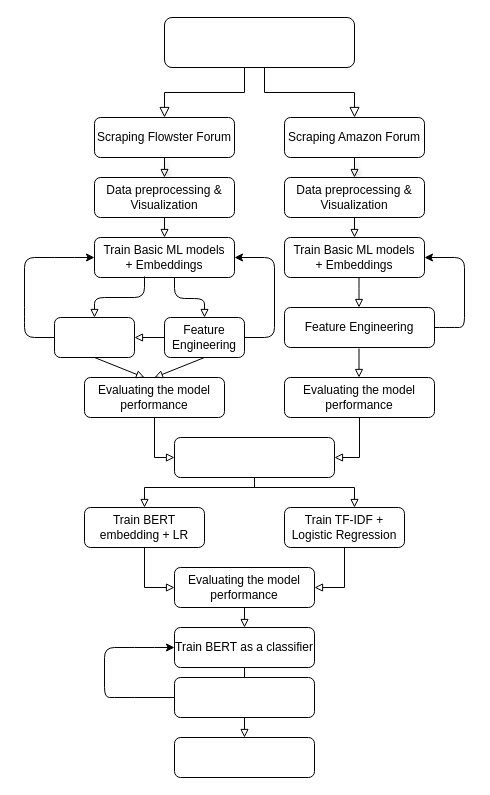
Image size: 490x795. Some labels were removed from this diagram. Here are the shapes that lost their labels. From the top down, the centre of each, then its label:
point (259, 42): Web scraping E-commerce Community
point (94, 337): Augmenting the data
point (254, 457): Gather the data
point (244, 697): Augment the data
point (244, 757): Evaluate the performance
